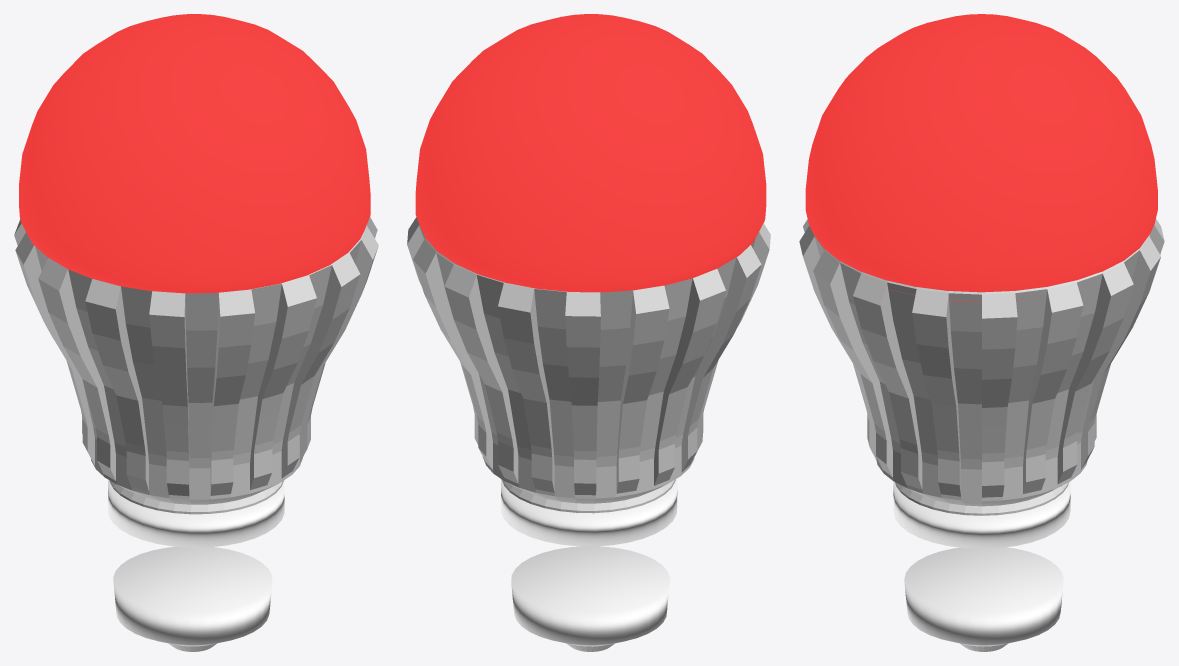
File: light_bulb_red.glb
3 renders of one model, left to right at view 1: azimuth 30°, elevation 25°; view 2: azimuth 150°, elevation 25°; view 3: azimuth 270°, elevation 25°, orthographic.
Visible parts, largest first — view 1: Sphere, Cylinder, Cylinder.003, Cylinder.002, Cylinder.001; view 2: Sphere, Cylinder, Cylinder.003, Cylinder.002, Cylinder.001; view 3: Sphere, Cylinder, Cylinder.003, Cylinder.002, Cylinder.001.
Boxes of the visible parts, bbox=[...] form: Sphere: bbox=[19, 14, 370, 293]; Cylinder: bbox=[14, 216, 378, 496]; Cylinder.003: bbox=[113, 546, 272, 646]; Cylinder.002: bbox=[108, 479, 284, 547]; Cylinder.001: bbox=[91, 458, 302, 514]; Sphere: bbox=[415, 14, 766, 292]; Cylinder: bbox=[407, 217, 770, 495]; Cylinder.003: bbox=[511, 546, 669, 646]; Cylinder.002: bbox=[501, 478, 677, 546]; Cylinder.001: bbox=[482, 456, 694, 513]; Sphere: bbox=[805, 14, 1157, 301]; Cylinder: bbox=[799, 219, 1164, 497]; Cylinder.003: bbox=[904, 547, 1063, 646]; Cylinder.002: bbox=[893, 481, 1070, 548]; Cylinder.001: bbox=[876, 461, 1087, 515].
Bounding box in the file's own units: 8.39 × 15.53 × 8.39.
